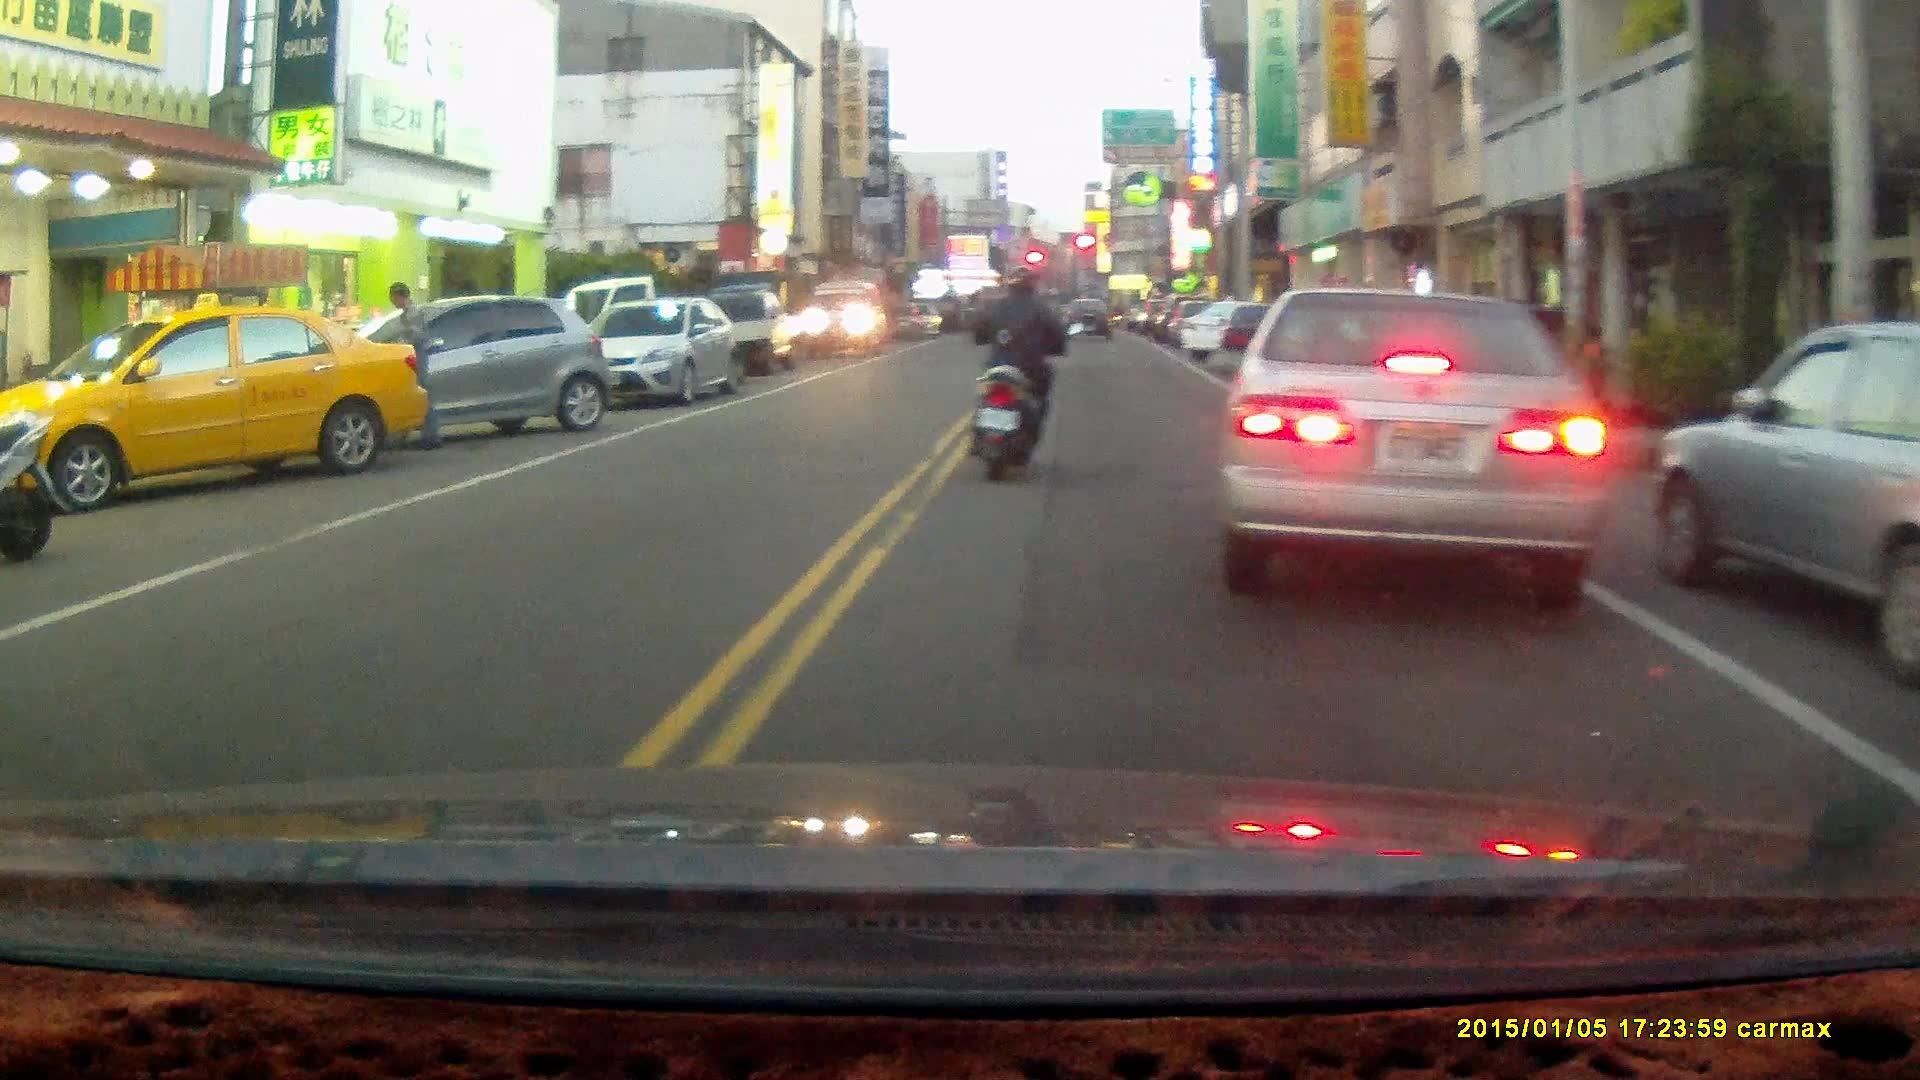pedestrian: (382, 279, 441, 454)
rider: (961, 262, 1083, 481)
vehicle: (1211, 283, 1609, 605), (1657, 315, 1920, 685), (1, 304, 423, 515), (323, 293, 617, 438), (585, 297, 745, 410), (715, 286, 813, 381), (803, 279, 886, 356)
